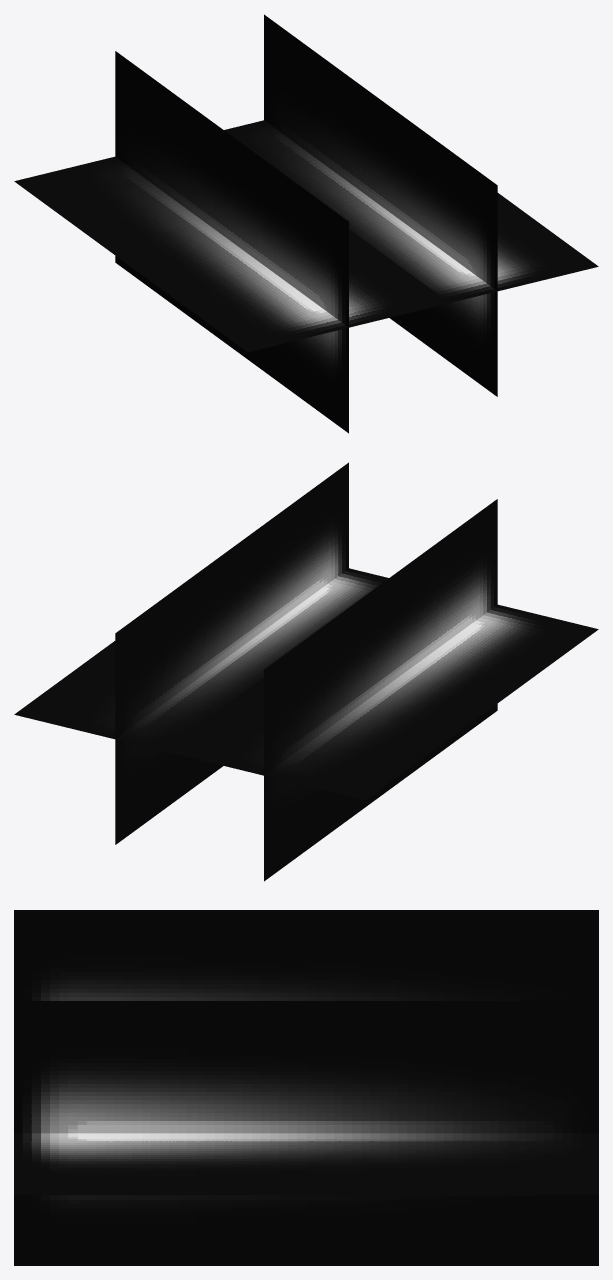
Rendered from EngineTrails_FBX.fbx.
3 views of the same model, one above another, from view 1: azimuth 30°, elevation 25°; view 2: azimuth 150°, elevation 25°; view 3: azimuth 270°, elevation 25° (orthographic). The views are drawn at different scales.
Parts seen in each view (by area): view 1: EngineTrails; view 2: EngineTrails; view 3: EngineTrails.
Part boxes in pixels (bbox=[...]): EngineTrails: bbox=[14, 14, 598, 433]; EngineTrails: bbox=[14, 462, 598, 881]; EngineTrails: bbox=[14, 910, 598, 1265].
Size of the model in its own units: 5.68 by 3.27 by 6.54.
